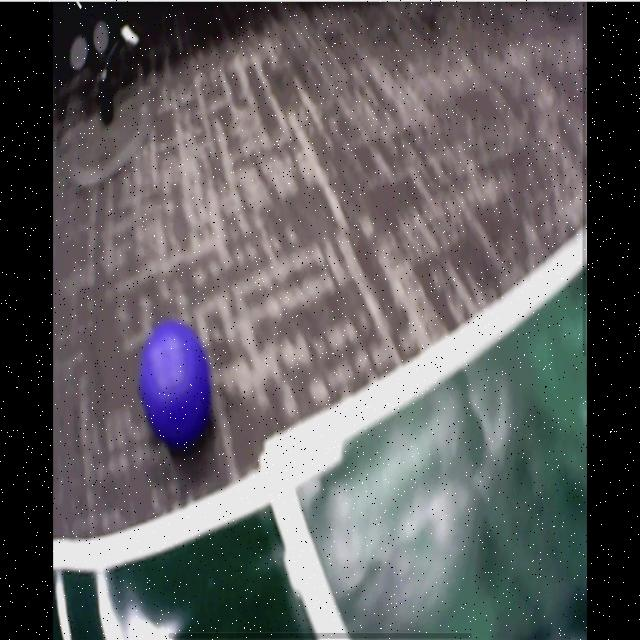ball: (139, 323, 213, 444)
